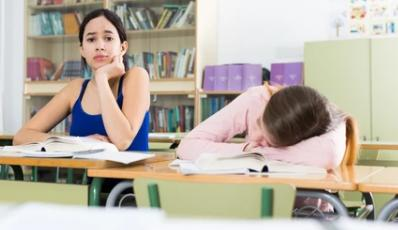sleep: (174, 81, 344, 177)
